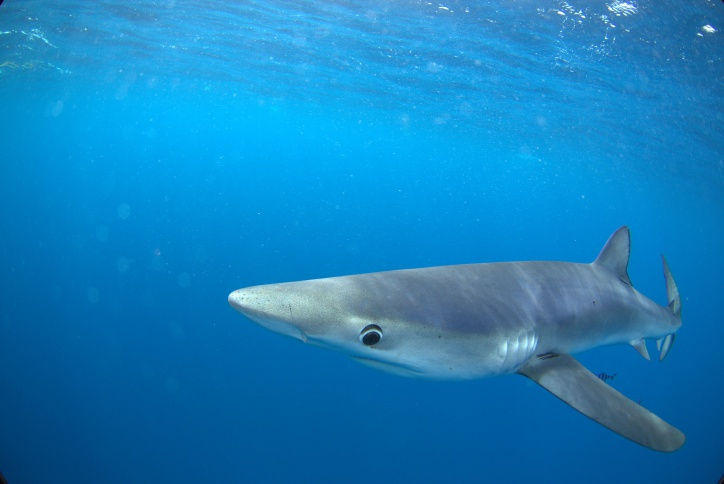Azul: (220, 208, 705, 469)
